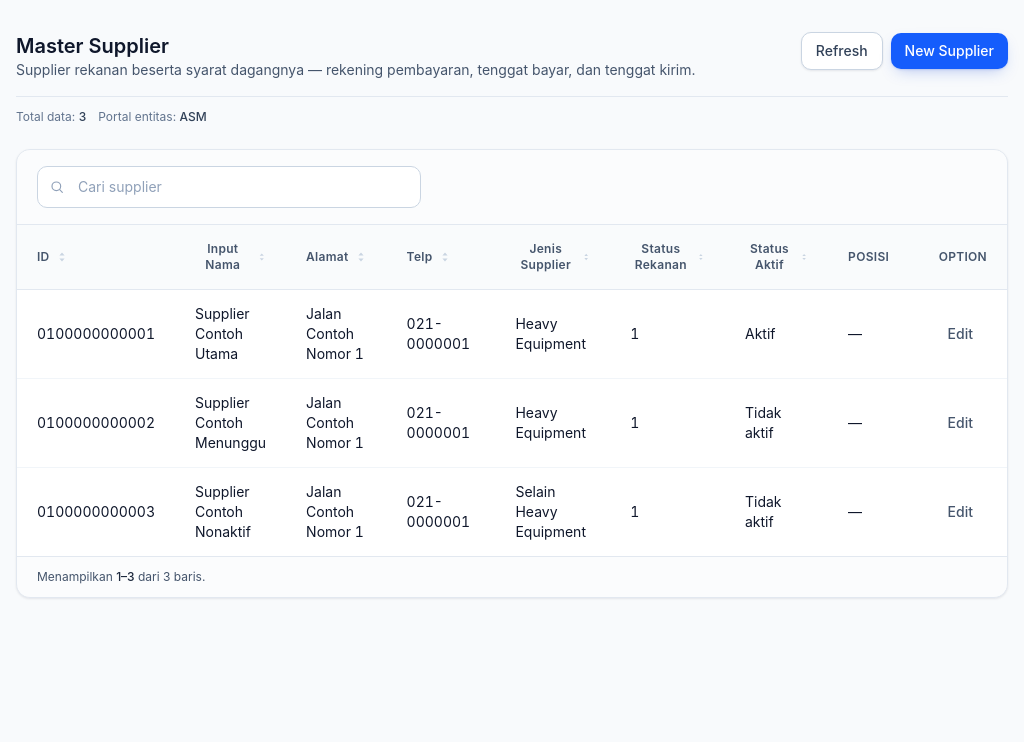
Test: form master supplier › membuka form tambah lewat tombol New Supplier
Expected: the text "Supplier Contoh Utama" is shown, [195, 305, 250, 362]
Step 1. Click the button "New Supplier" → (949, 51), box [891, 33, 1008, 69]
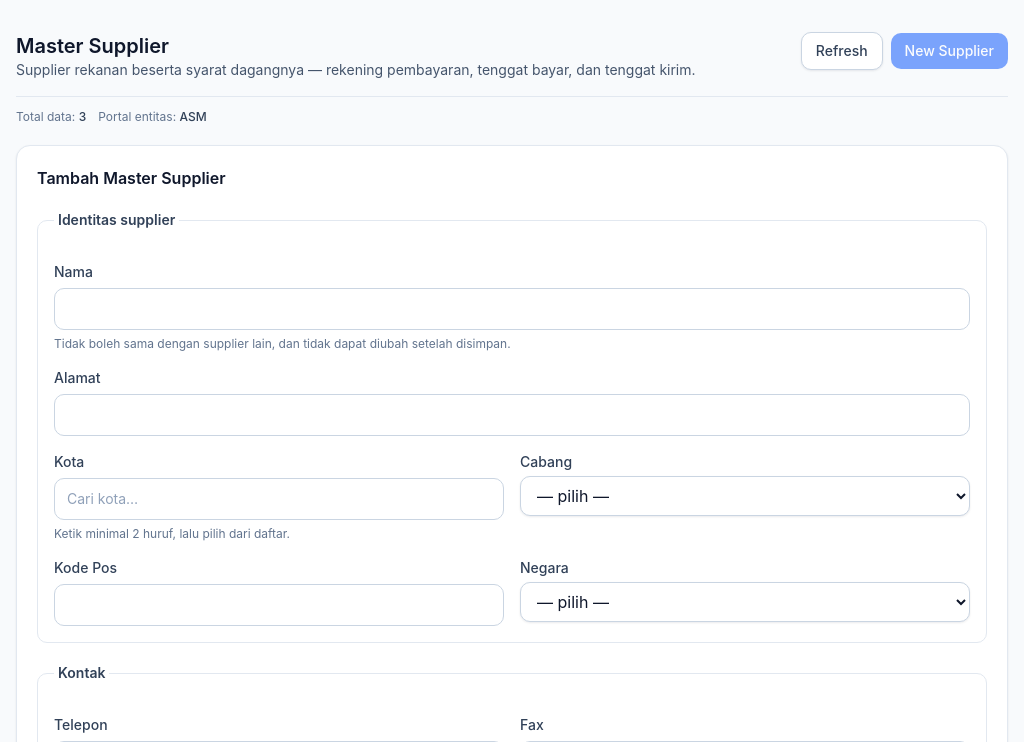
Now the heading "Tambah Master Supplier" is shown, box [37, 168, 226, 188]
